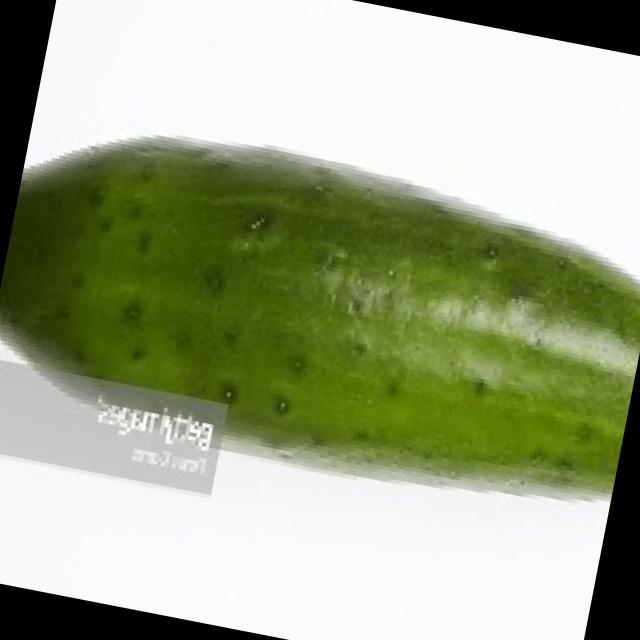cucumber: (0, 96, 640, 525)
